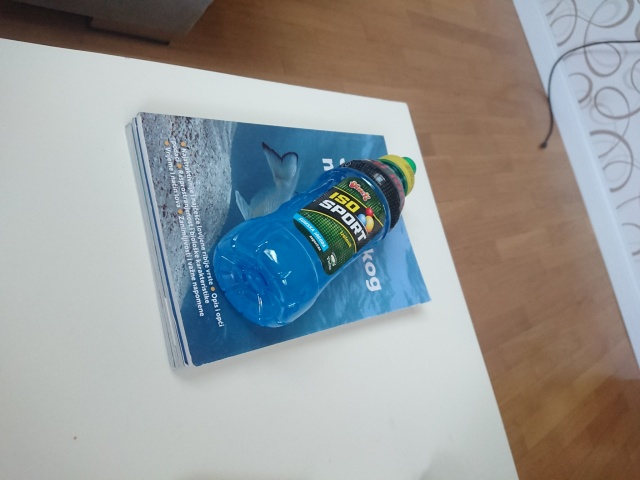Vindi Iso Sport Forest Strawberries 500mL: (210, 151, 418, 330)
